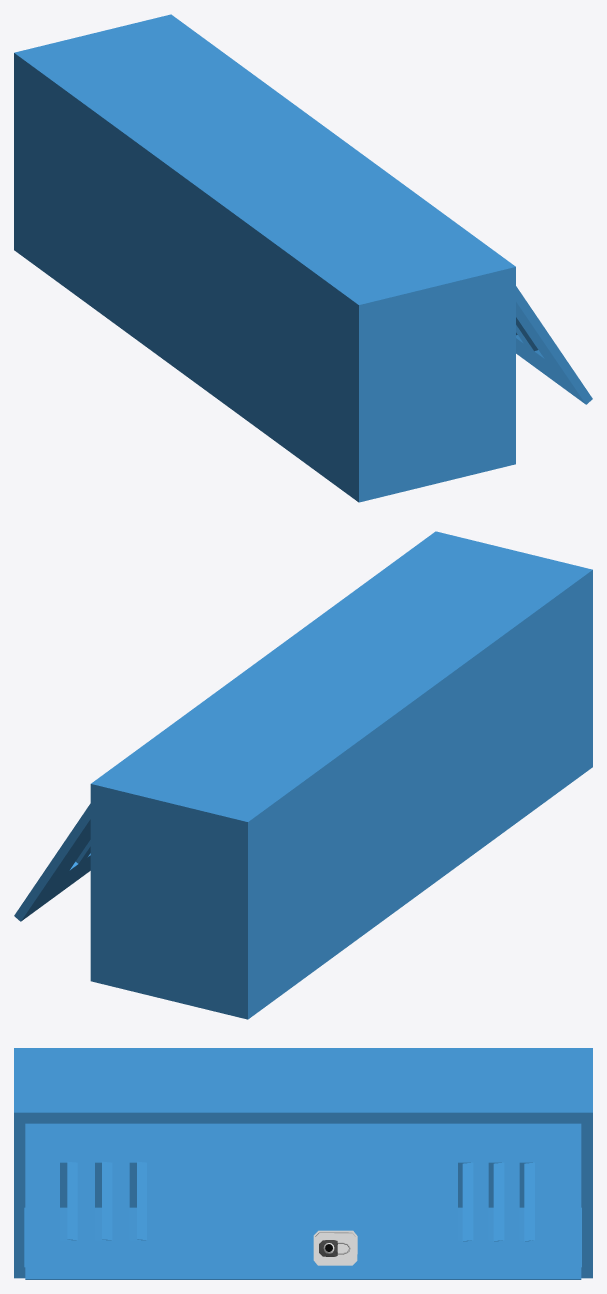
File: OpenFallenLocker2.fbx
The picture shows the model from 3 angles, top to bottom: view 1: azimuth 30°, elevation 25°; view 2: azimuth 150°, elevation 25°; view 3: azimuth 270°, elevation 25°; orthographic projection. The views are drawn at different scales.
Parts seen in each view (by area): view 1: Locker.001; view 2: Locker.001; view 3: Locker.001.
Boxes of the visible parts, left/top/right/bottom form: Locker.001: left=14, top=14, right=592, bottom=502; Locker.001: left=14, top=531, right=592, bottom=1019; Locker.001: left=14, top=1048, right=592, bottom=1279.
Size of the model in its own units: 61.29 by 48 by 152.
